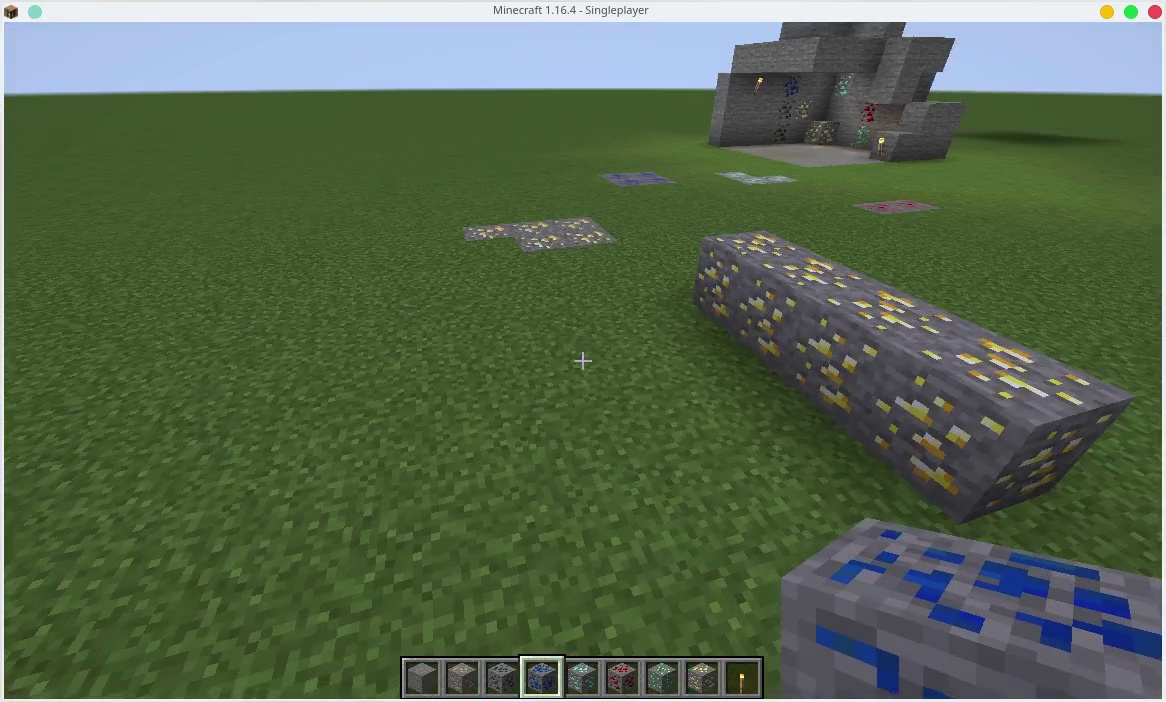gold: (897, 337, 1114, 529), (803, 319, 881, 421), (733, 270, 793, 361), (858, 284, 963, 327), (684, 248, 722, 323), (793, 255, 856, 297), (726, 225, 790, 261), (686, 662, 717, 694), (526, 237, 570, 256), (570, 228, 614, 244), (808, 122, 837, 145), (468, 226, 510, 240), (560, 215, 596, 228), (520, 218, 551, 232), (798, 100, 812, 116)
